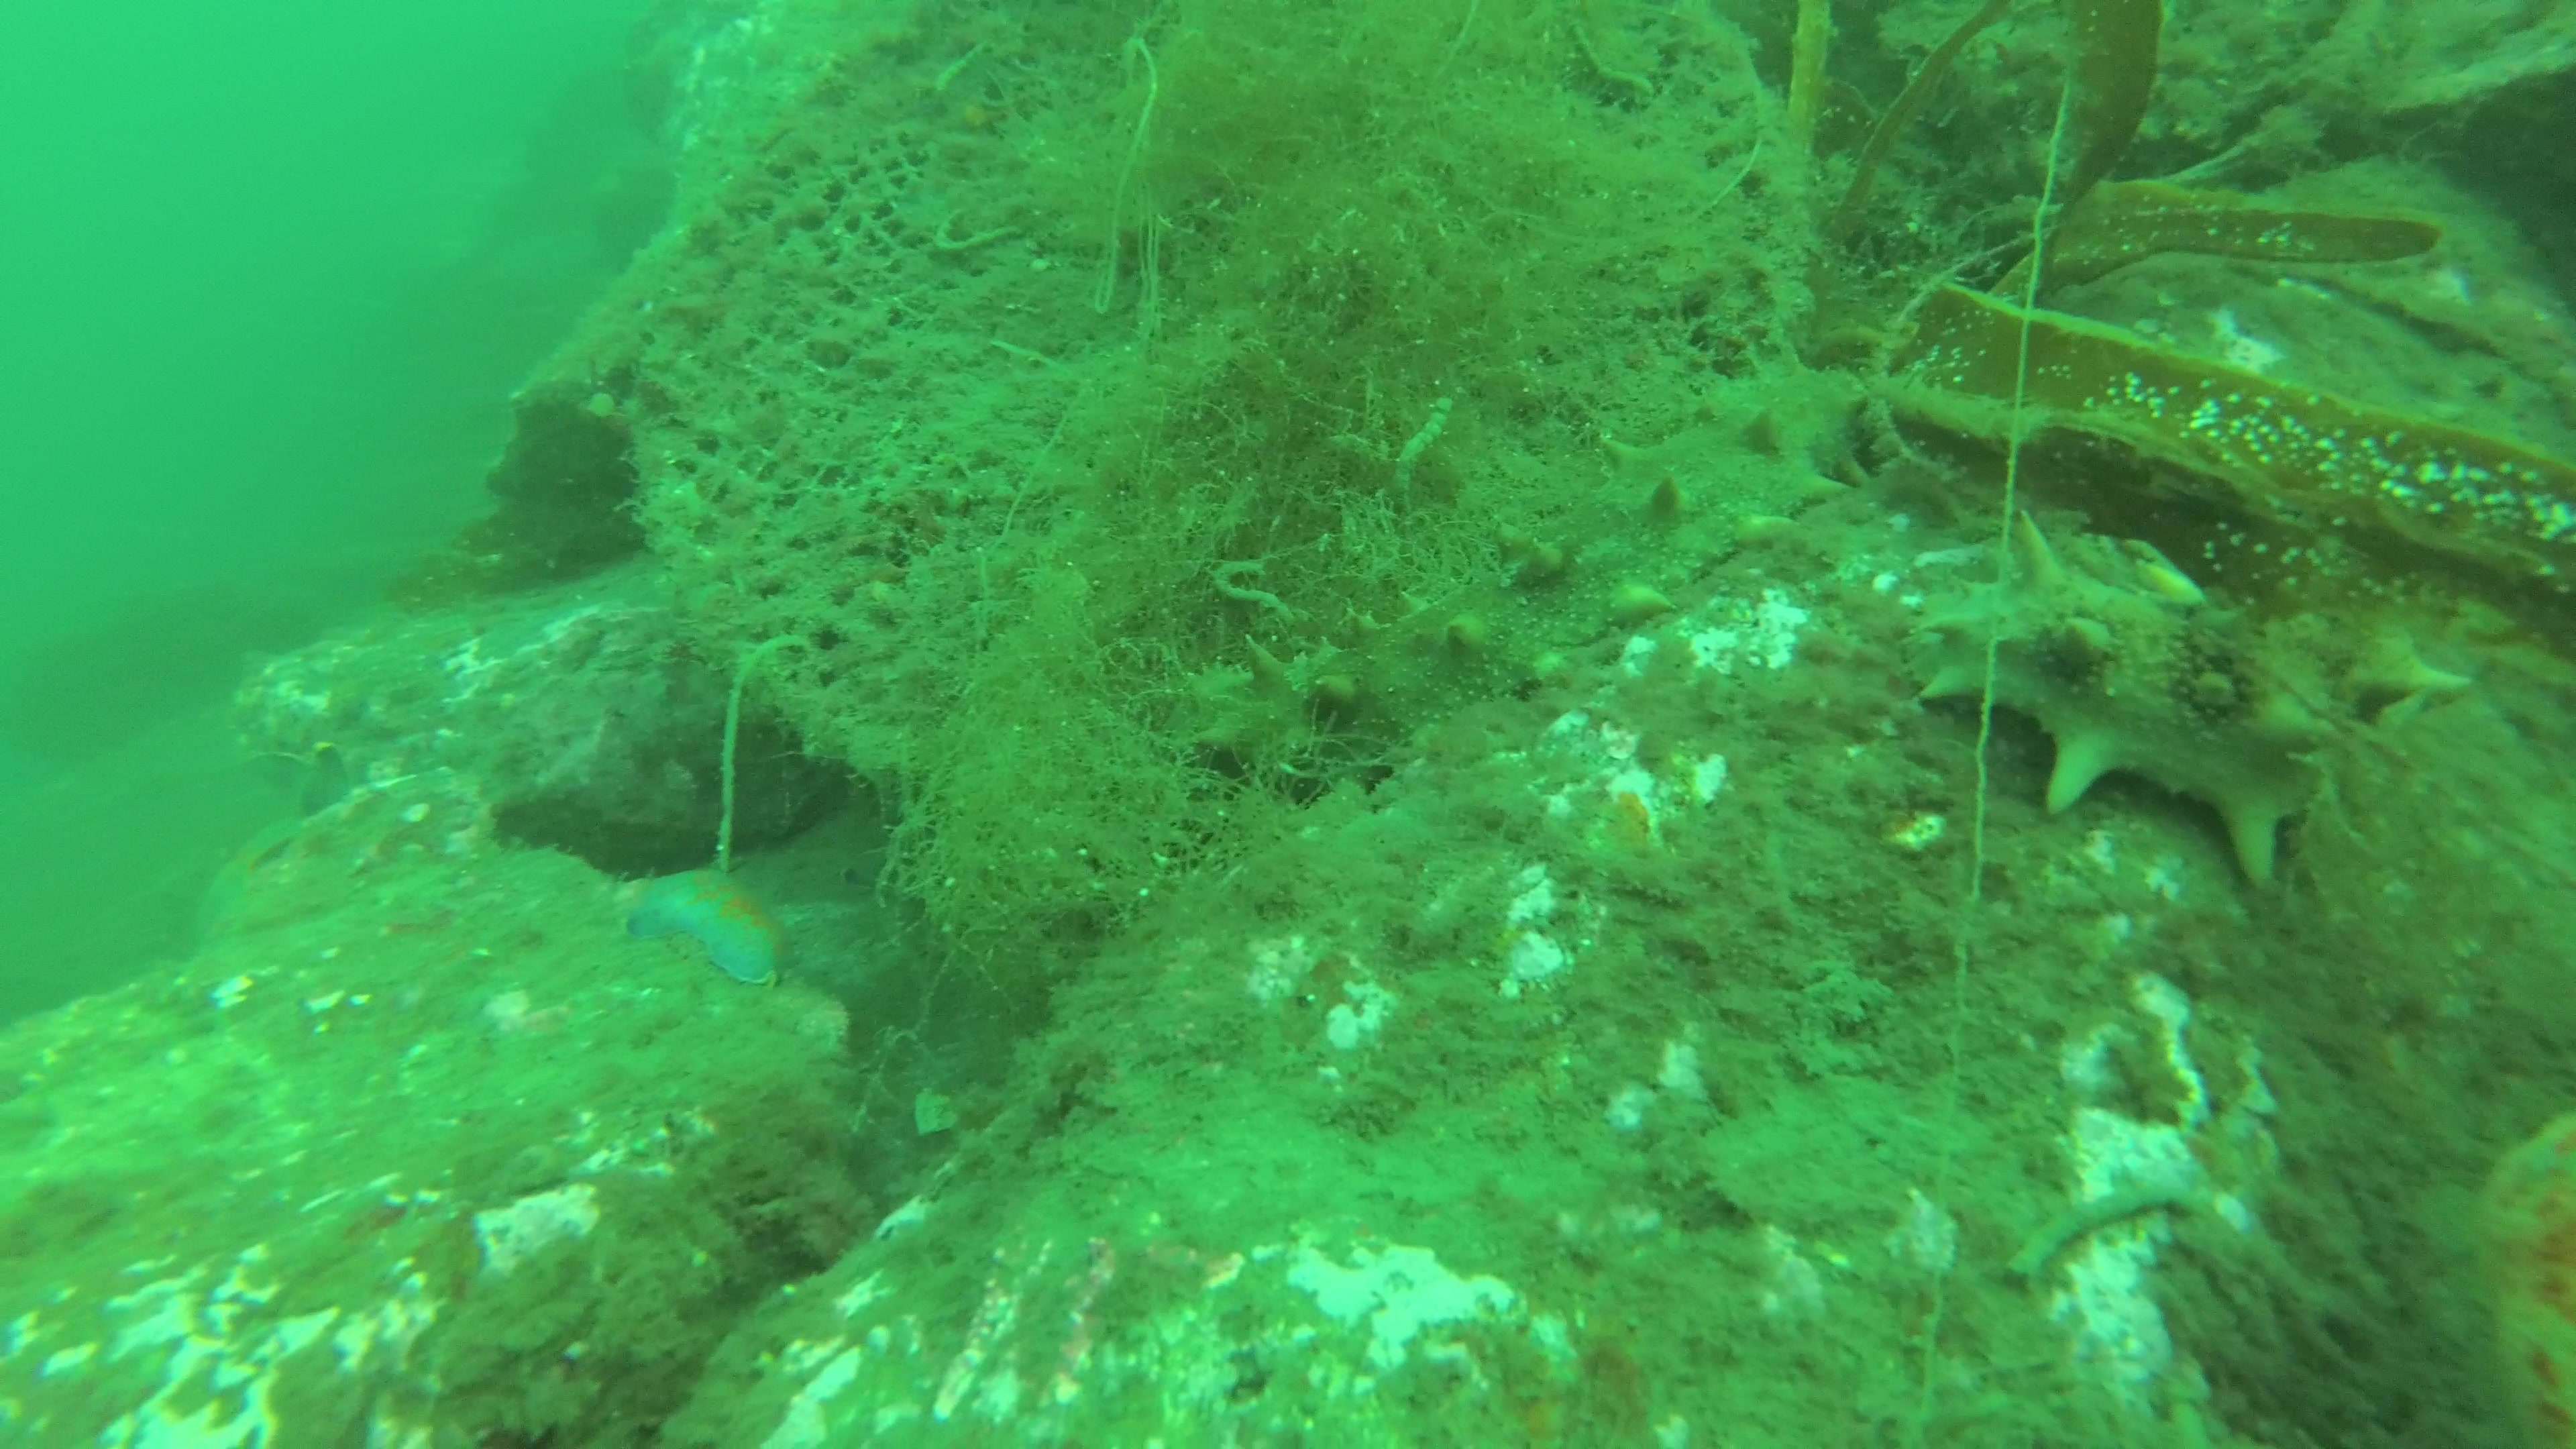holothurian: (1200, 352, 1886, 793), (1920, 508, 2473, 881)
starfish: (2473, 1109, 2576, 1449), (625, 869, 791, 989)
